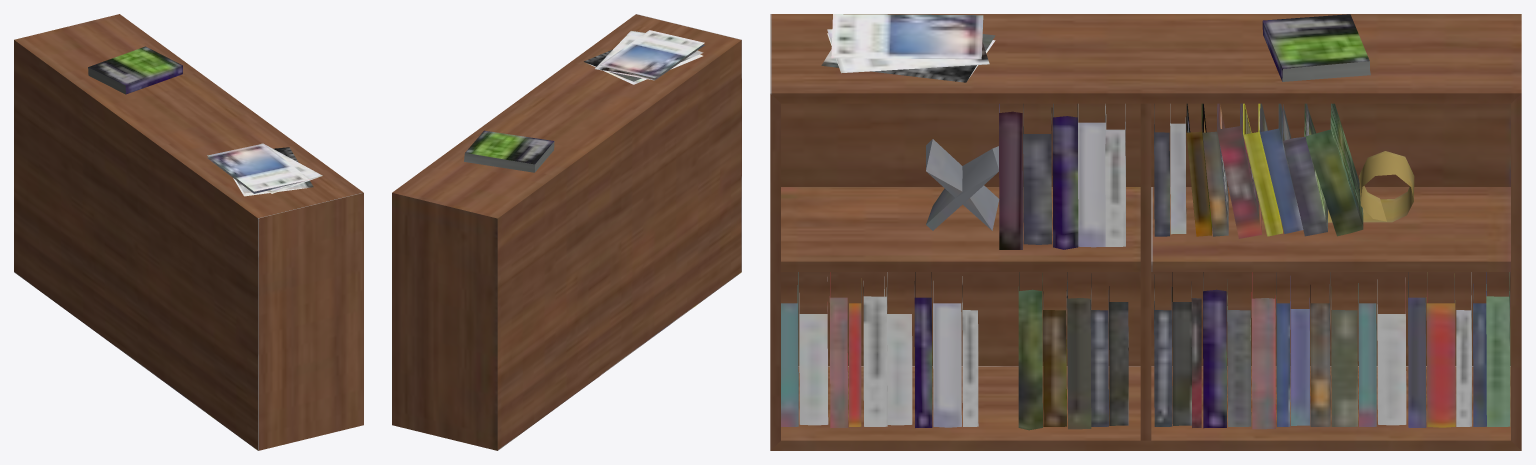
The model's file is Bookshelf0002.obj.
3 views of the same model, side by side, from view 1: azimuth 30°, elevation 25°; view 2: azimuth 150°, elevation 25°; view 3: azimuth 270°, elevation 25° (orthographic). The views are drawn at different scales.
Bounding box in the file's own units: 0.35 × 0.765 × 1.4.
Materials: 1 (1 with a texture image).
